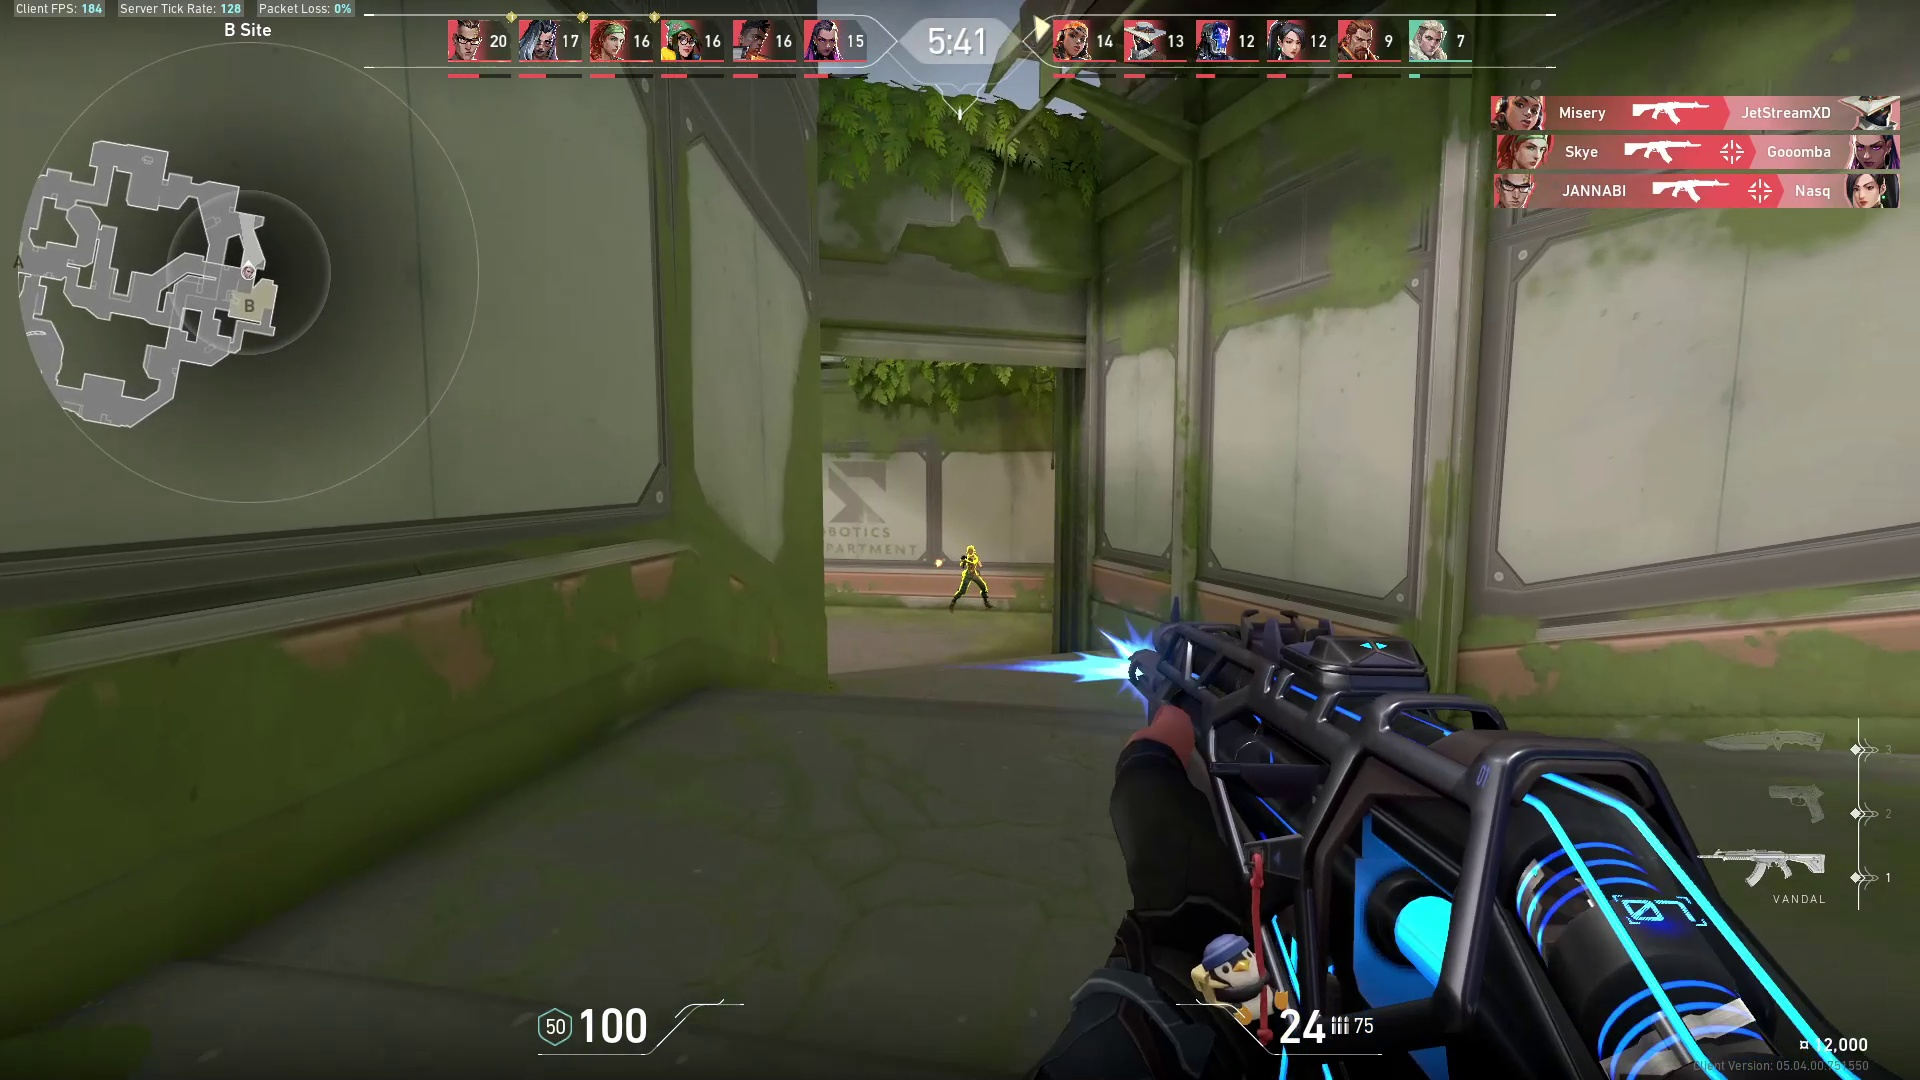enemy_body: (951, 556, 997, 613)
enemy_head: (965, 543, 976, 557)
